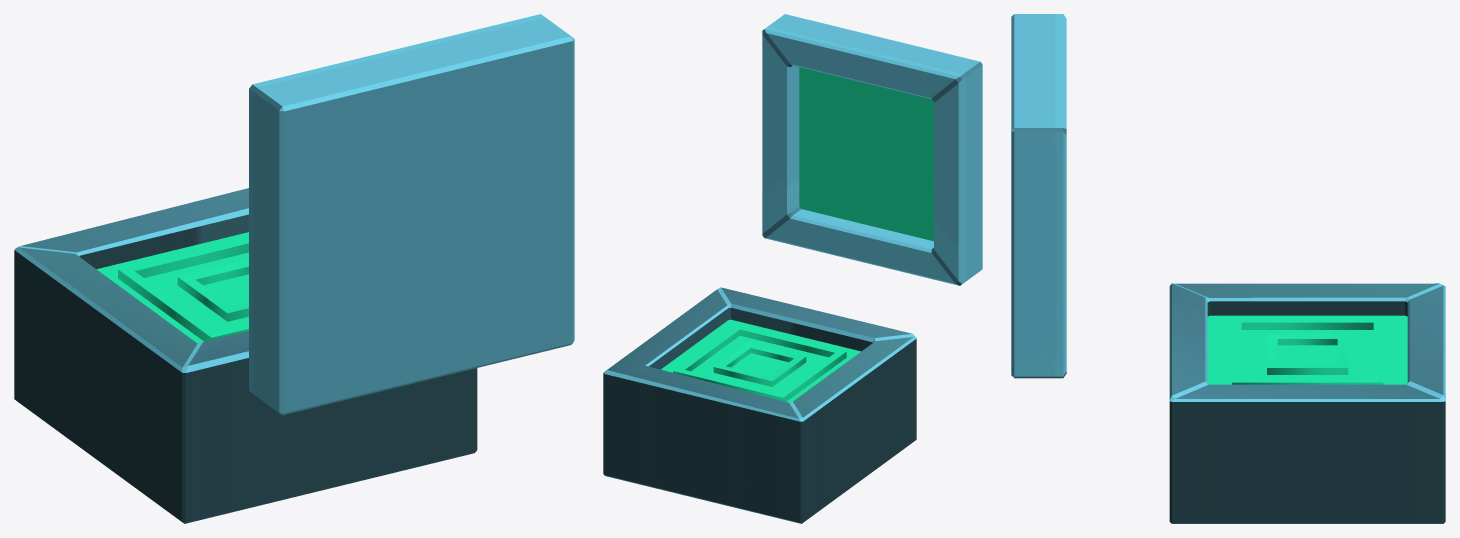
File: End.FBX
The picture shows the model from 3 angles, left to right: view 1: azimuth 30°, elevation 25°; view 2: azimuth 150°, elevation 25°; view 3: azimuth 270°, elevation 25°; orthographic projection. The views are drawn at different scales.
Visible parts, largest first — view 1: End, Start, Surface, Tube4, Tube005; view 2: Start, End, Win, Surface, Tube4, Tube005; view 3: Start, End, Surface, Tube4, Tube005.
Part boxes in pixels (left/top/right/bottom): End: left=249, top=14, right=574, bottom=415; Start: left=14, top=188, right=477, bottom=523; Surface: left=97, top=232, right=248, bottom=343; Tube4: left=118, top=237, right=248, bottom=341; Tube005: left=177, top=259, right=248, bottom=321; Start: left=603, top=287, right=916, bottom=523; End: left=762, top=14, right=982, bottom=285; Win: left=799, top=67, right=933, bottom=241; Surface: left=661, top=319, right=860, bottom=402; Tube4: left=673, top=325, right=846, bottom=401; Tube005: left=713, top=342, right=806, bottom=386; Start: left=1169, top=283, right=1445, bottom=523; End: left=1011, top=14, right=1066, bottom=378; Surface: left=1207, top=315, right=1407, bottom=384; Tube4: left=1232, top=318, right=1383, bottom=384; Tube005: left=1267, top=334, right=1348, bottom=374.
Bounding box in the file's own units: 78.74 × 124 × 124.
2 materials, 1 textured.
